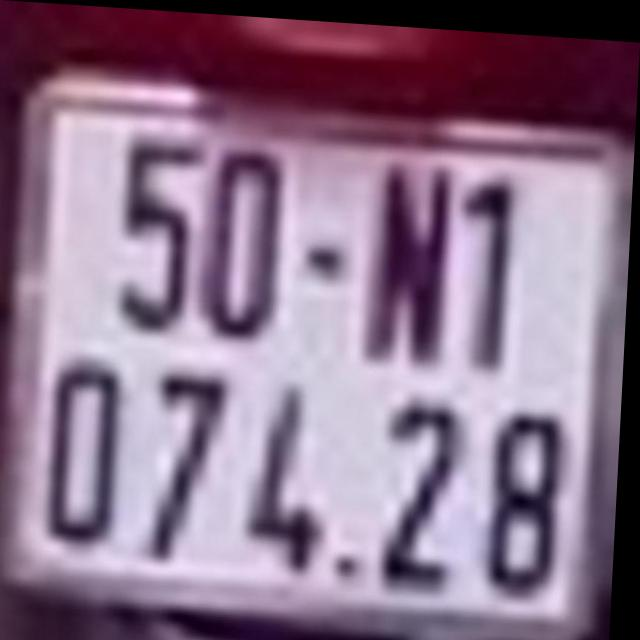0: (205, 141, 283, 335), (51, 352, 126, 544)
1: (454, 164, 517, 368)
2: (385, 390, 465, 585)
4: (252, 376, 337, 571)
5: (118, 135, 202, 332)
7: (153, 370, 229, 559)
8: (492, 401, 566, 587)
N: (371, 156, 452, 361)
